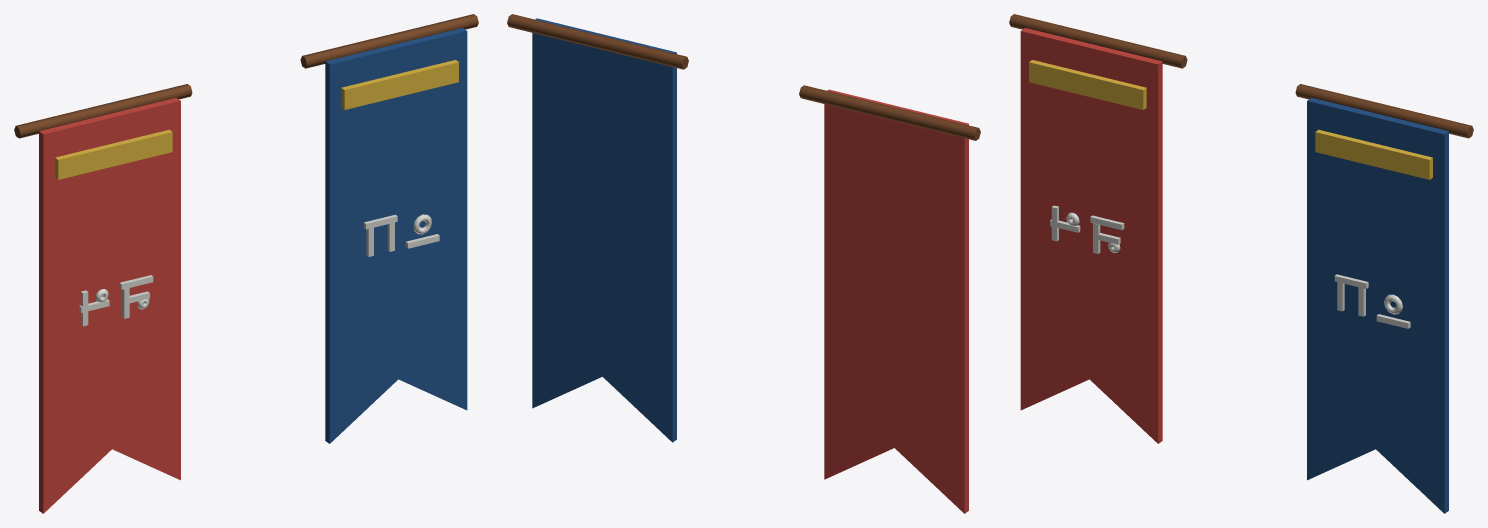
The model's file is overlay_2.fbx.
3 views of the same model, side by side, from view 1: azimuth 30°, elevation 25°; view 2: azimuth 150°, elevation 25°; view 3: azimuth 330°, elevation 25° (orthographic).
Visible parts, largest first — view 1: overlay_2; view 2: overlay_2; view 3: overlay_2.
Part boxes in pixels (x1=…): overlay_2: x1=14, y1=14, x2=478, y2=513; overlay_2: x1=507, y1=14, x2=980, y2=513; overlay_2: x1=1009, y1=14, x2=1473, y2=513.
Bounding box in the file's own units: 2.4 × 1.93 × 0.1566.
